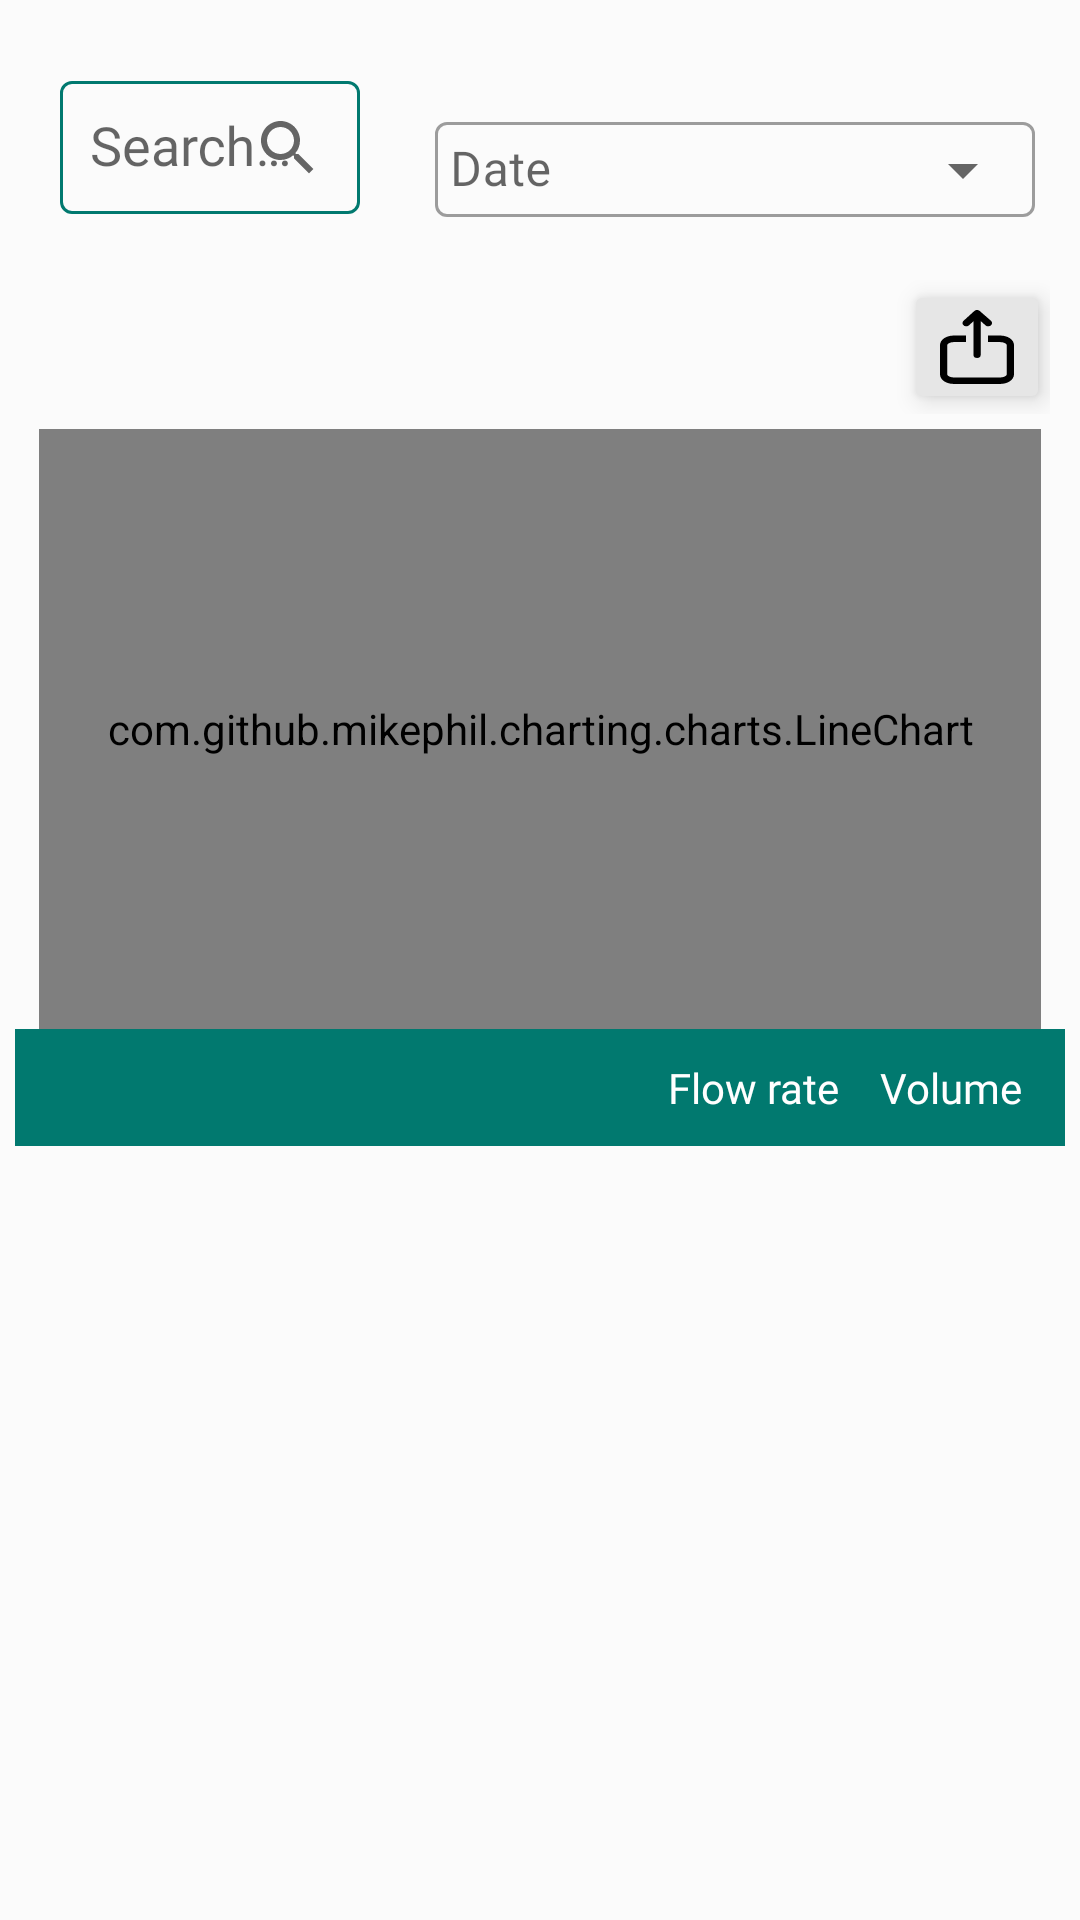

Icon click points for this 1080w x 1920h phone screenshot, format [x,y]:
export: [981,350]
